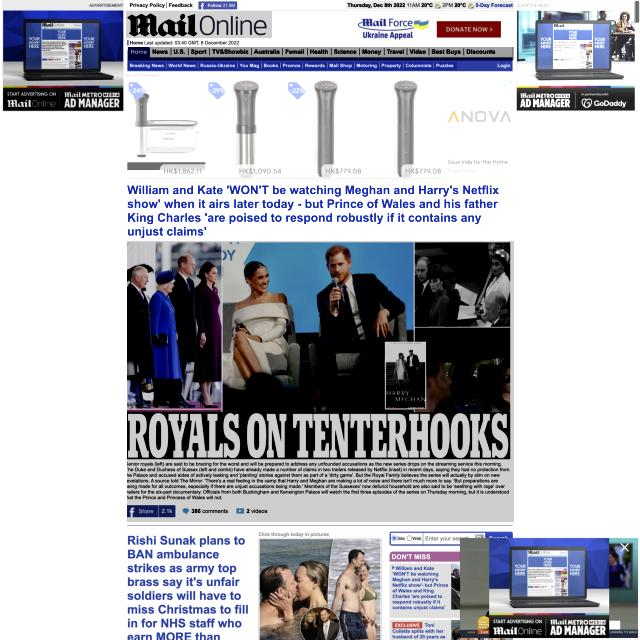CheckBox: (437, 21, 501, 38)
ImageView: (126, 72, 514, 178), (2, 0, 124, 112), (518, 0, 638, 111)
QR code: (346, 1, 514, 9)
card: (128, 241, 516, 522)
data feed: (444, 25, 494, 33)
date picker: (126, 11, 272, 38)
decoration: (127, 62, 457, 70)
icon: (128, 48, 514, 62)
image: (125, 183, 502, 239)
